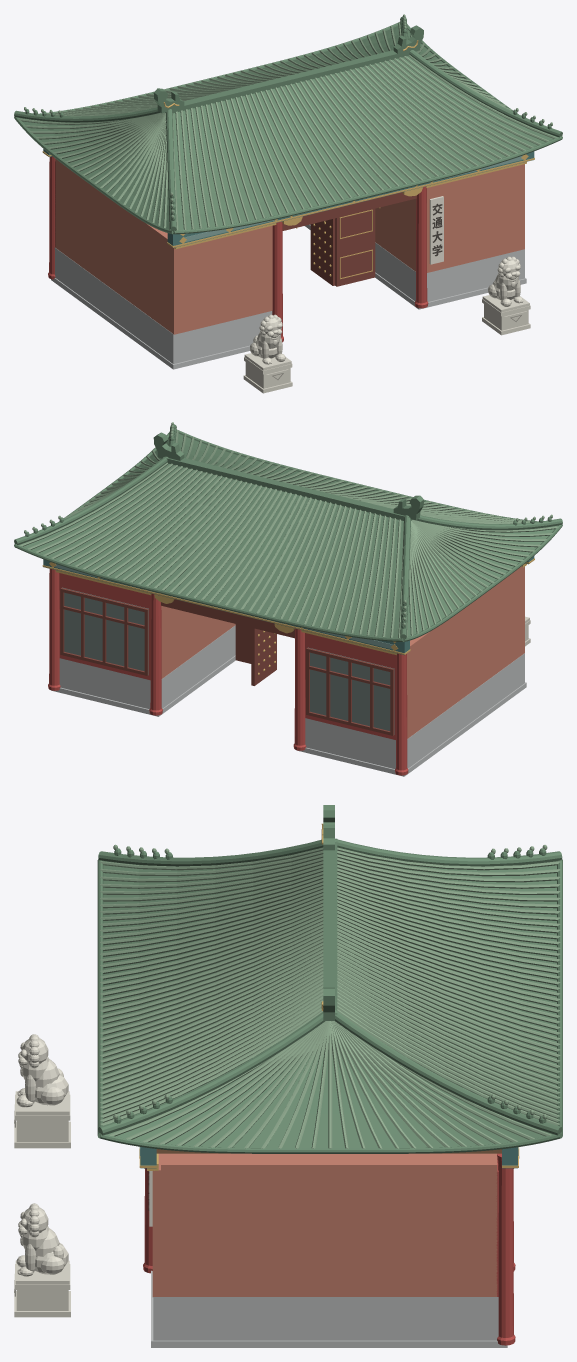
File: xuhui-nanyang-campus-gate-lod.glb
3 views of the same model, one above another, from view 1: azimuth 30°, elevation 25°; view 2: azimuth 150°, elevation 25°; view 3: azimuth 270°, elevation 25° (orthographic). The views are drawn at different scales.
Visible parts, largest first — view 1: 交通大学徐汇校区老校门（南洋公学旧址）; view 2: 交通大学徐汇校区老校门（南洋公学旧址）; view 3: 交通大学徐汇校区老校门（南洋公学旧址）.
Boxes of the visible parts, left/top/right/bottom form: 交通大学徐汇校区老校门（南洋公学旧址）: left=14, top=14, right=562, bottom=393; 交通大学徐汇校区老校门（南洋公学旧址）: left=14, top=422, right=562, bottom=776; 交通大学徐汇校区老校门（南洋公学旧址）: left=14, top=805, right=562, bottom=1347.
Bounding box in the file's own units: 16.39 × 8.91 × 13.63.
